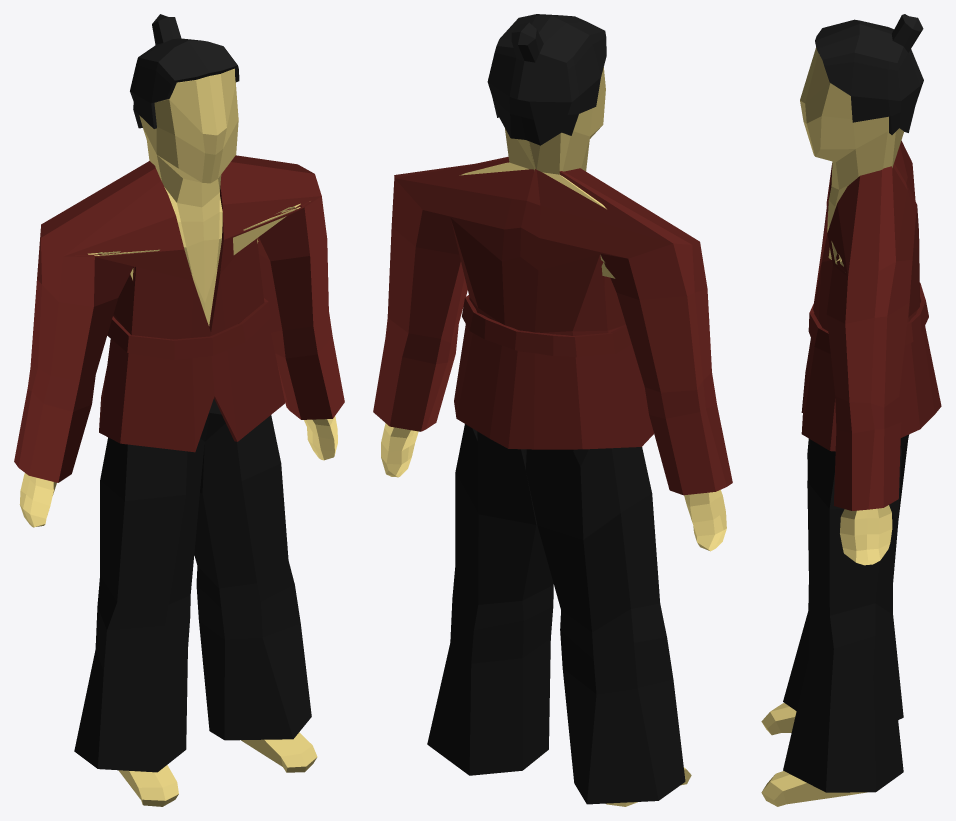
The model's file is player.fbx.
3 views of the same model, side by side, from view 1: azimuth 30°, elevation 25°; view 2: azimuth 150°, elevation 25°; view 3: azimuth 270°, elevation 25° (orthographic). The views are drawn at different scales.
Parts seen in each view (by area): view 1: Cube.001; view 2: Cube.001; view 3: Cube.001.
Part boxes in pixels (<box>): Cube.001: <box>14,14,344,806</box>; Cube.001: <box>373,14,732,806</box>; Cube.001: <box>761,14,941,806</box>.
Size of the model in its own units: 1190 by 2567 by 559.
